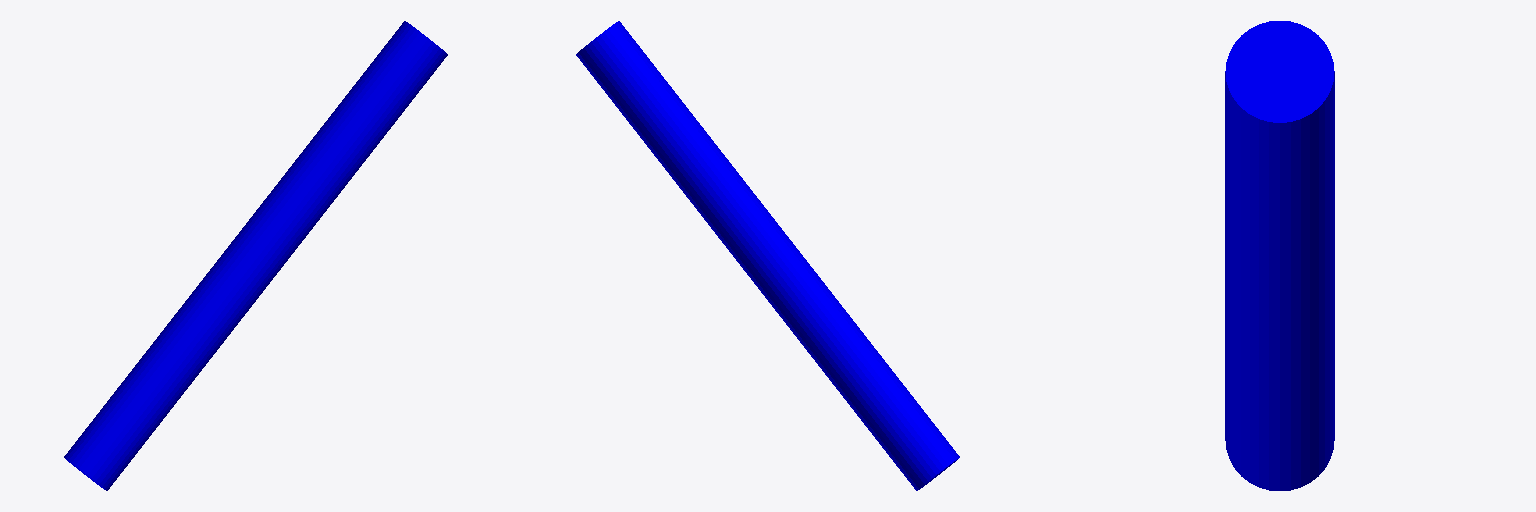
URDF robot description (cylinder):
<?xml version="1.0"?>
<robot name="cylinder">
  <link name="cylinder_link">
    <visual>
      <origin xyz="0 0 0" rpy="0 0.79 0"/>
      
      <geometry>
        <cylinder radius="0.01" length="0.2"/>
      </geometry>
      <material name="Blue">
        <color rgba="0 0 1 1.0"/>
      </material>
    </visual>
    <collision>
      <origin xyz="0 0 0" rpy="0 0.79 0"/>
      <geometry>
        <cylinder radius="0.01" length="0.2"/>
      </geometry>
    </collision>
    <inertial>
      <mass value="1.0"/>
      <inertia ixx="0.001" ixy="0.0" ixz="0.0" iyy="0.001" iyz="0.0" izz="0.001"/>
    </inertial>
  </link>
</robot>

--- Render facts (derived) ---
Views: 3 orthographic renders of the robot side by side, from view 1: azimuth 30°, elevation 25°; view 2: azimuth 150°, elevation 25°; view 3: azimuth 270°, elevation 25°.
Model cylinder with 1 links and 0 joints (none), rooted at cylinder_link, posed all joints at 0.
Links seen in each view (by area): view 1: cylinder_link; view 2: cylinder_link; view 3: cylinder_link.
Link boxes in pixels (box(x1,y1,x2,y2)): cylinder_link: box(64, 21, 447, 490); cylinder_link: box(576, 21, 959, 490); cylinder_link: box(1225, 21, 1334, 490).
Size in the robot's own frame: 0.1561 by 0.02 by 0.155 metres.
Geometry: primitives only (box / cylinder / sphere), no mesh files.